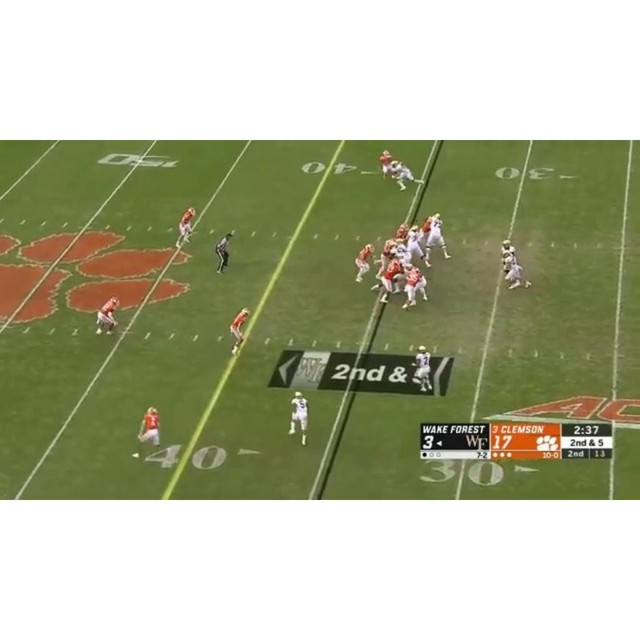american-football-player: (423, 213, 453, 262), (502, 245, 532, 291), (288, 389, 310, 447), (376, 258, 403, 302), (391, 159, 424, 192), (413, 344, 434, 394), (405, 223, 429, 266), (375, 236, 398, 280), (400, 266, 422, 310), (229, 308, 249, 355), (96, 296, 119, 336), (138, 407, 161, 446), (176, 206, 196, 248), (355, 243, 375, 284), (379, 150, 394, 181)
referee: (214, 230, 235, 276)
